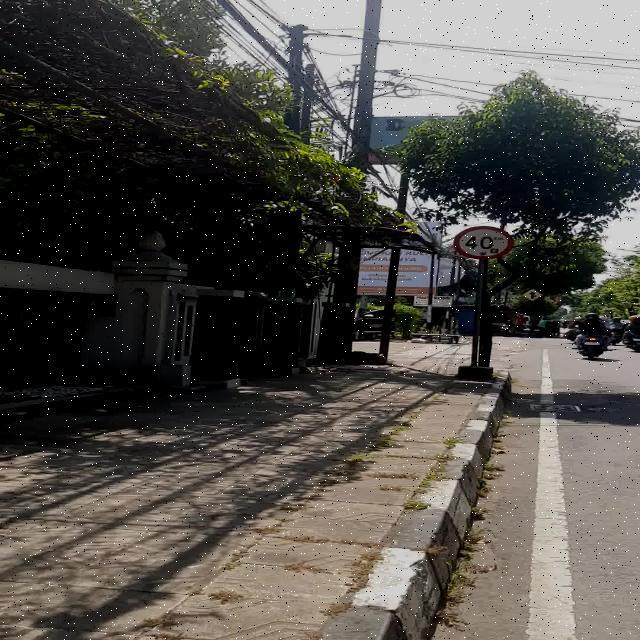Kecepatan Maks. 40 km: (453, 226, 514, 260)
